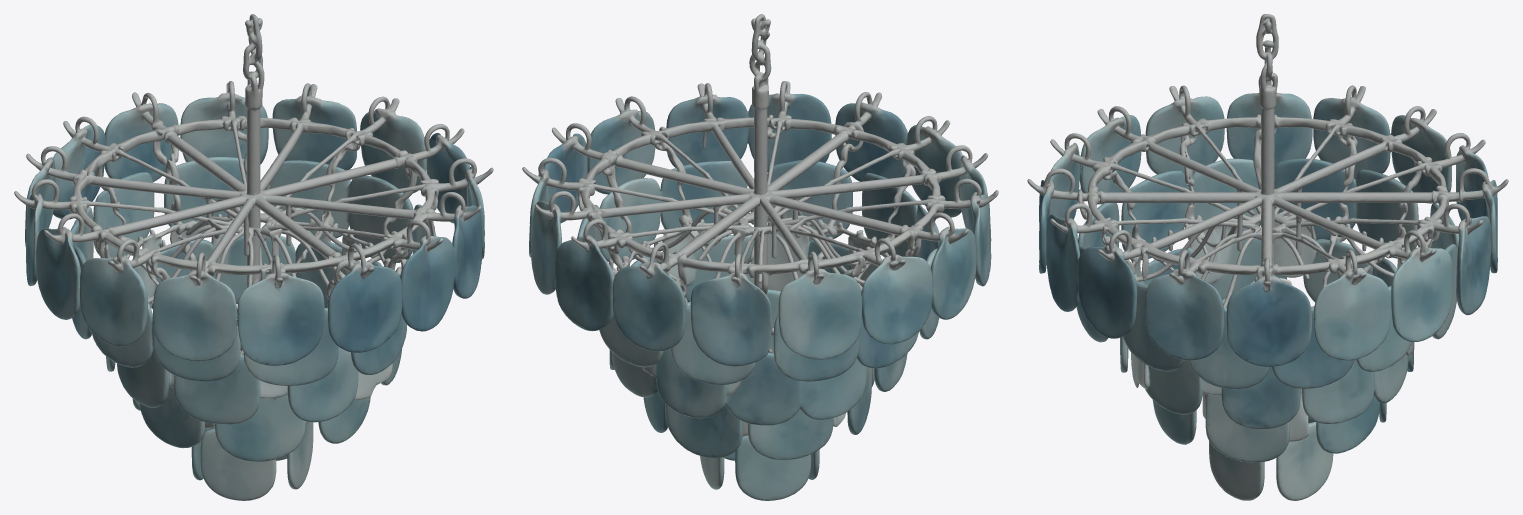
File: CapizChandelier.glb
3 renders of one model, left to right at view 1: azimuth 30°, elevation 25°; view 2: azimuth 150°, elevation 25°; view 3: azimuth 270°, elevation 25°, orthographic.
Visible parts, largest first — view 1: world; view 2: world; view 3: world.
Part boxes in pixels (x1,y1,x2,y2): world: [14, 14, 493, 500]; world: [522, 14, 998, 500]; world: [1027, 14, 1508, 500].
Size of the model in its own units: 0.9405 by 1 by 0.932.
Materials: 1 (1 with a texture image).
